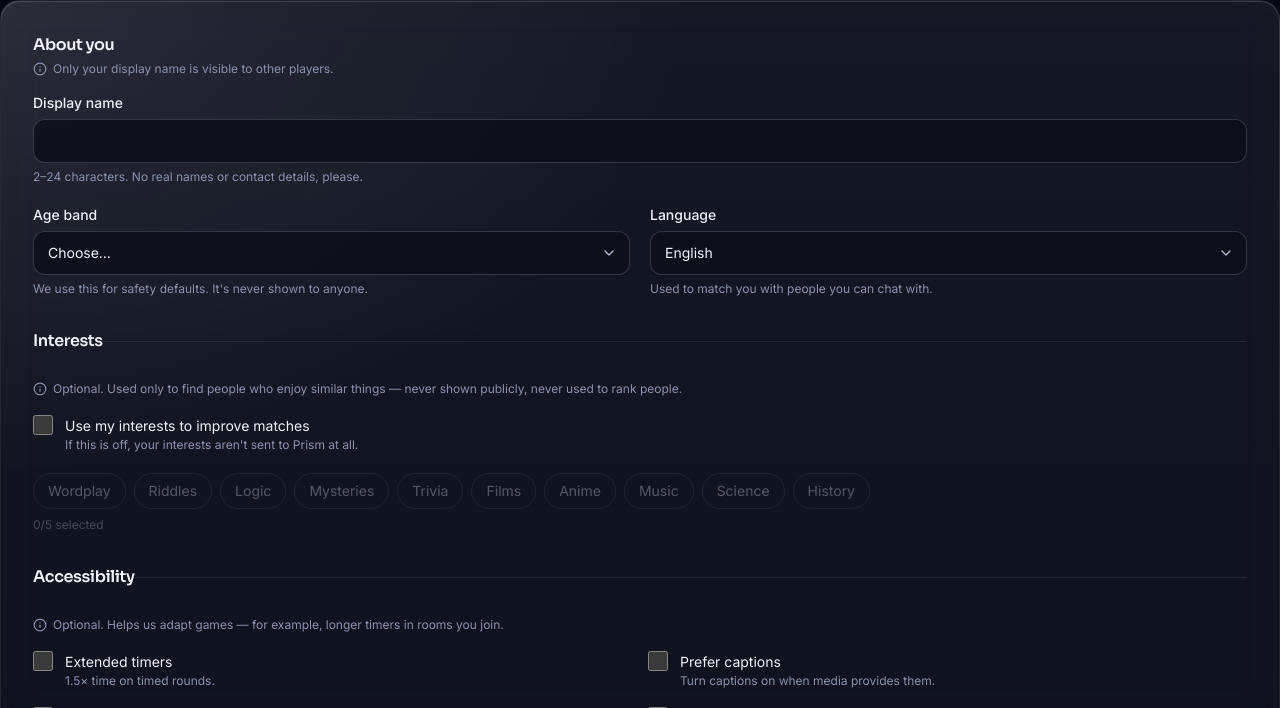
it: <ProfileForm /> › explains minor safeguards when a minor age band is chosen
Select "13–15" in the dropdown labelled "Age band" at [332, 253], box [33,231,630,275]
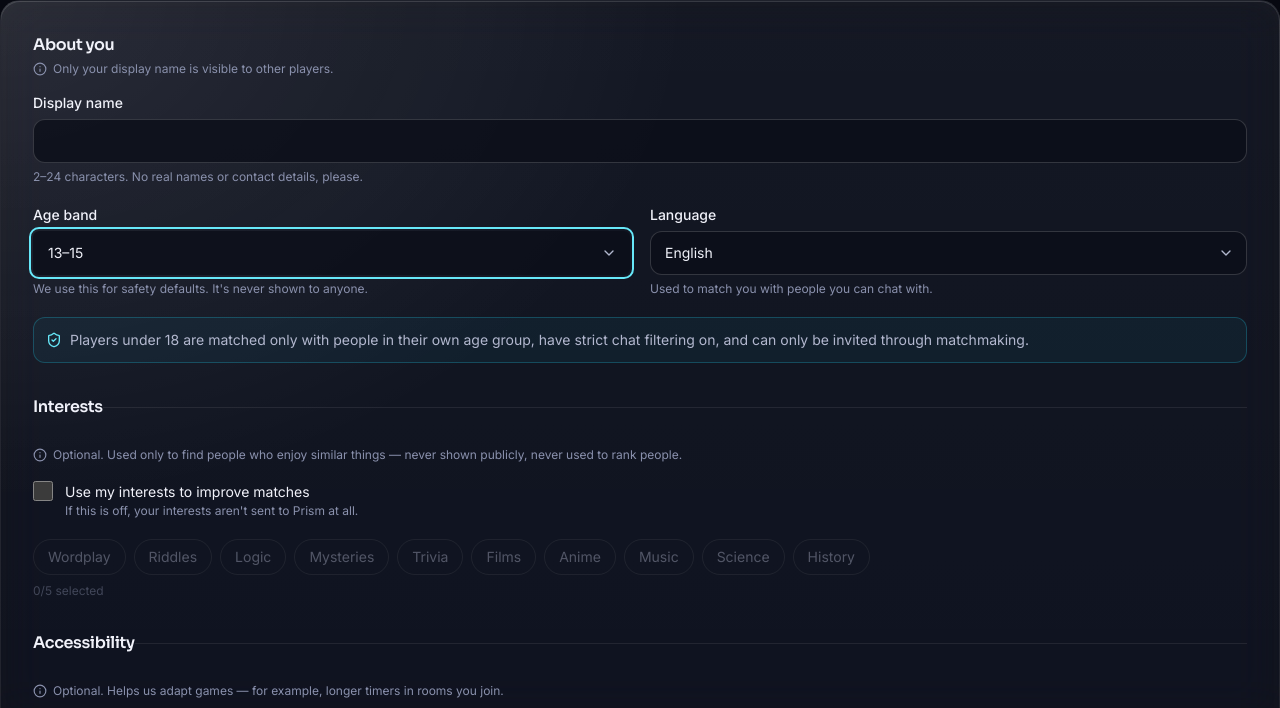
Expected: the text "matched only with people in their own age group" is shown, [70,331,1029,348]
